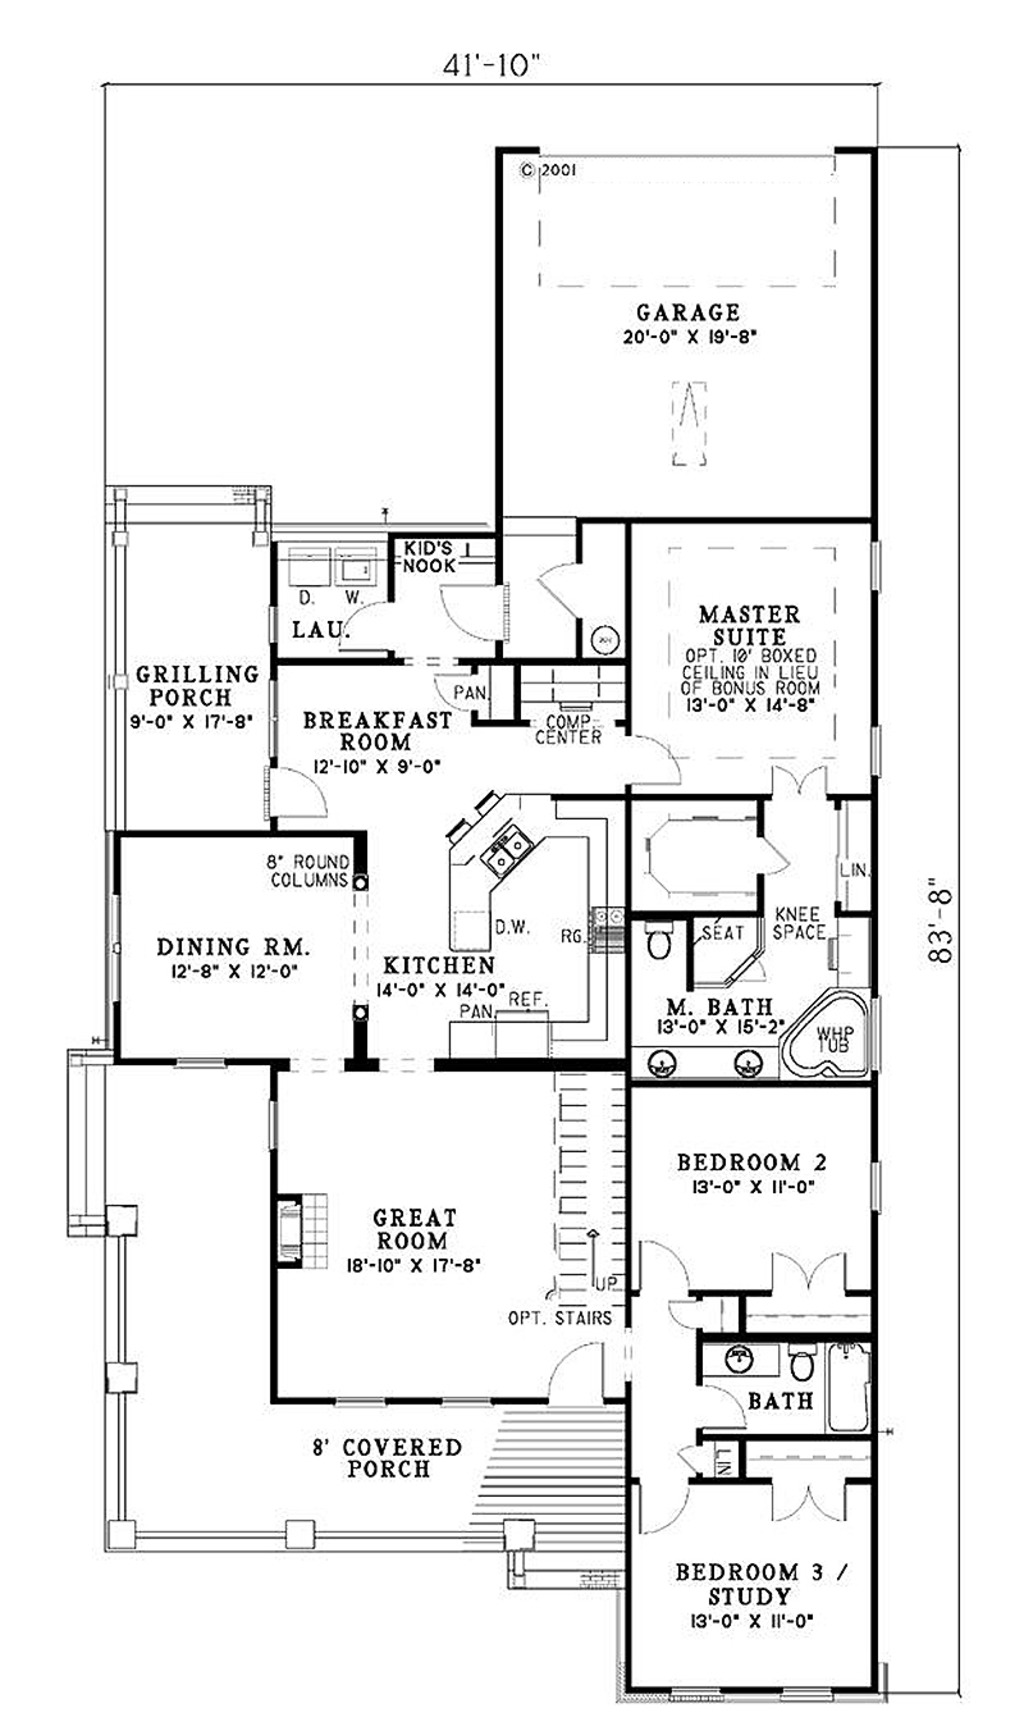door: (741, 1470, 852, 1534), (245, 755, 345, 822), (625, 1228, 702, 1309), (530, 1332, 611, 1409), (432, 572, 518, 642), (761, 1241, 855, 1304), (627, 1470, 700, 1544), (625, 727, 689, 795), (332, 599, 405, 653), (700, 1377, 757, 1432), (539, 556, 589, 616), (764, 750, 825, 797)
kitchen_bar: (422, 783, 572, 965)
large_sink: (631, 906, 692, 975)
small_sink: (625, 1033, 789, 1079)
stairs: (523, 1068, 642, 1317)
twin_sink: (471, 816, 550, 891)
window: (839, 1150, 902, 1228), (845, 524, 900, 611), (772, 1672, 847, 1720), (861, 709, 902, 794), (660, 1679, 727, 1702)
